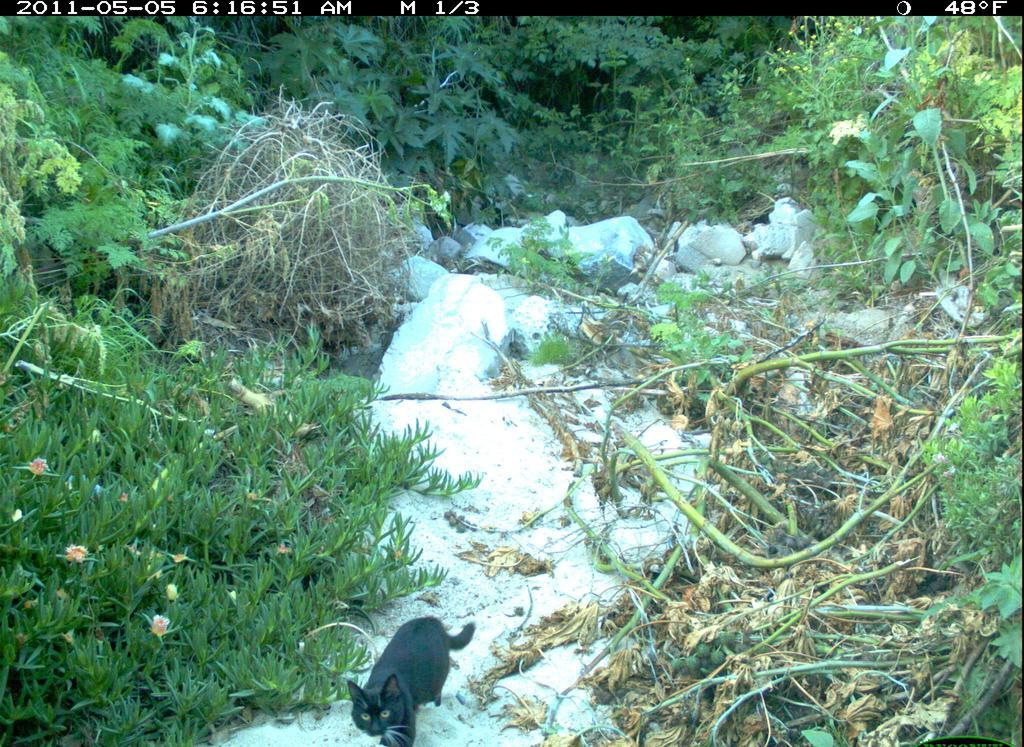cat: (346, 615, 487, 747)
